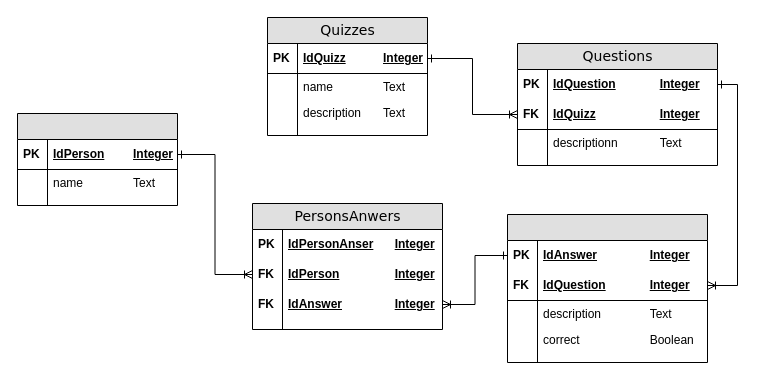
Image size: 764x380. Some labels were removed from this diagram. Each missing label, with the box of its shape:
Answers: (506, 214, 708, 362)
Persons: (16, 112, 178, 206)
